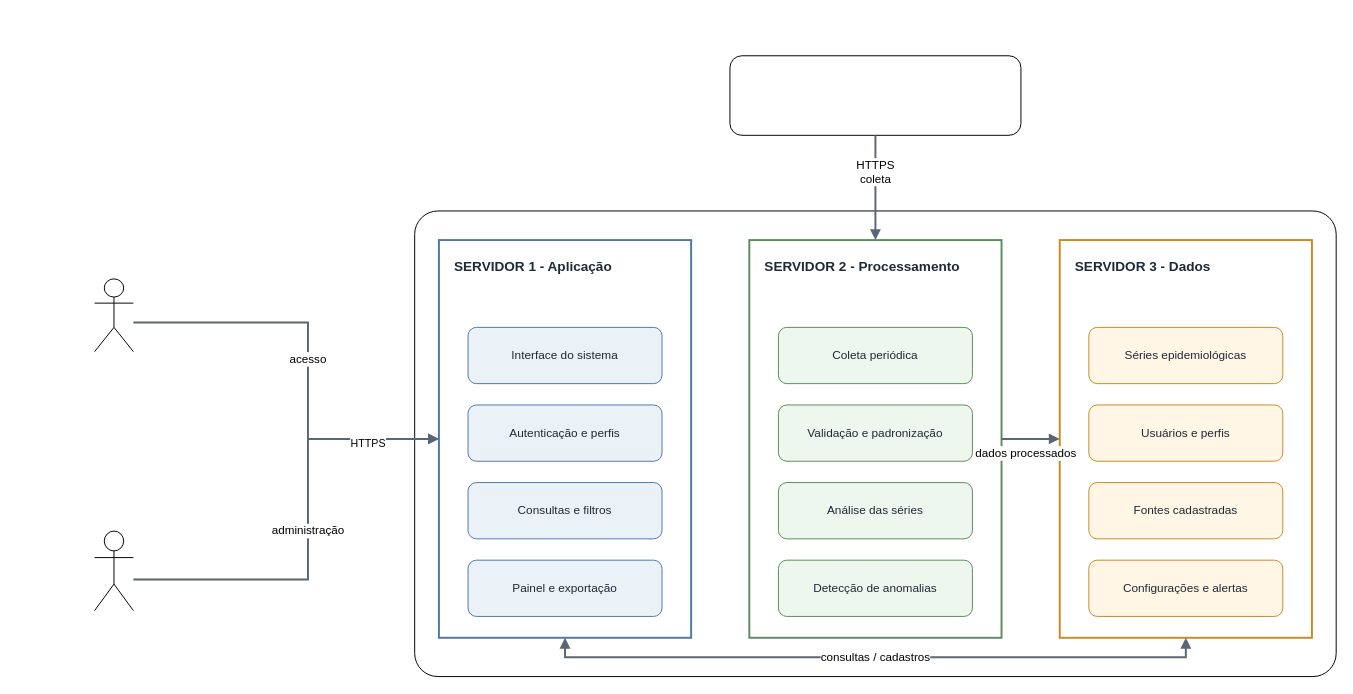
This 1353x694 diagram has some shape labels left out. The shapes that lost their labels are listed below. From the top down, each one's centre as x and y in pixels, then its label:
At point 875,95: "APIs DATASUS - InfoGripe etc.".
At point 113,315: "Usuário".
At point 113,570: "Administrador".
